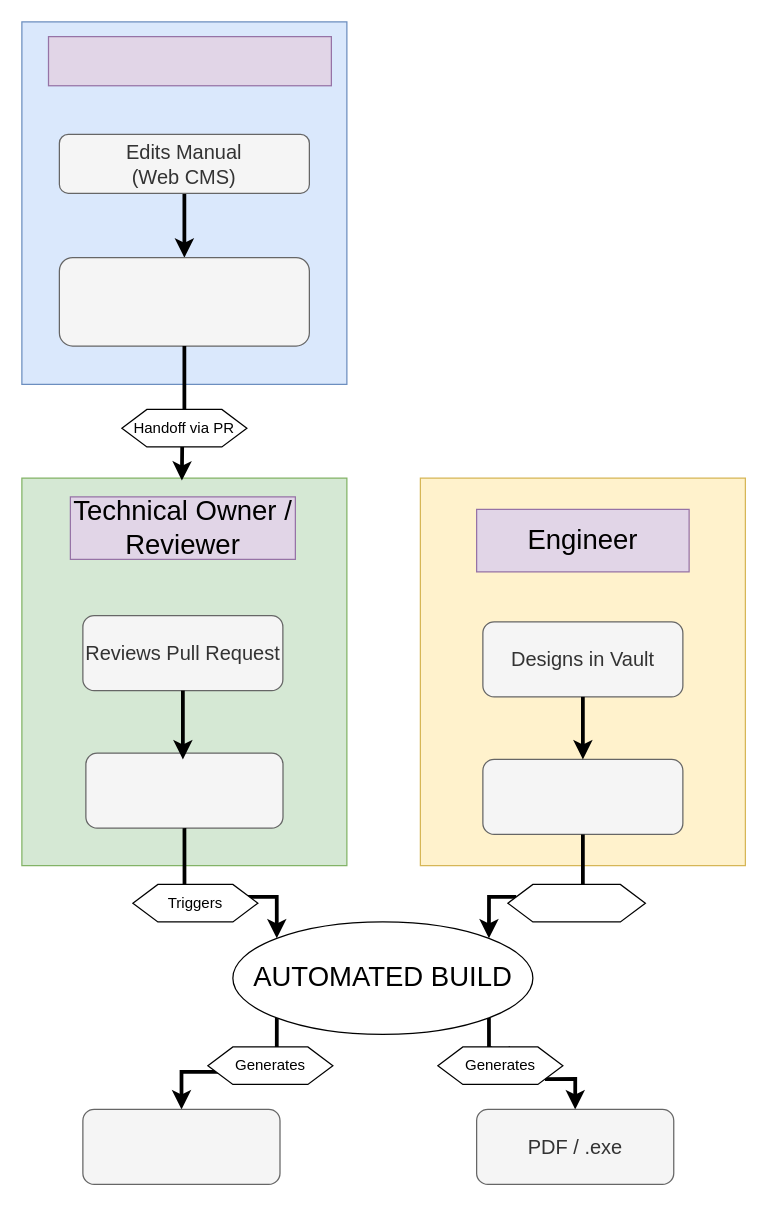
The diagram is 768 pixels wide and 1206 high, and some of its shapes have lost their labels. The centre of each missing label's shape, as x and y in pixels:
Approves & Merges: pixel 184 790
Private Website (For CMS editing): pixel 181 1146
Provides Input to: pixel 576 902
Saves Schematic: pixel 582 796
Submits for Review (Creates Pull Request): pixel 183 301
Team Leader: pixel 189 60
